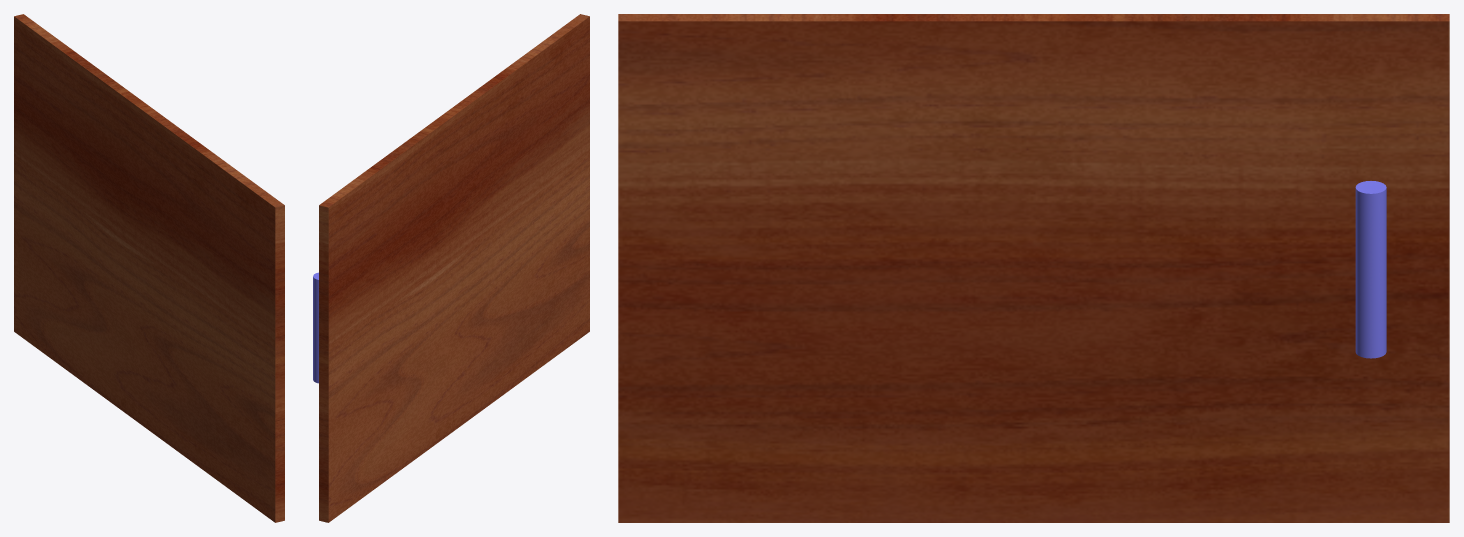
Rendered from Vanity_Door_With_Handle_On_Right.fbx.
The picture shows the model from 3 angles, left to right: view 1: azimuth 30°, elevation 25°; view 2: azimuth 150°, elevation 25°; view 3: azimuth 270°, elevation 25°; orthographic projection. The views are drawn at different scales.
Parts seen in each view (by area): view 1: polySurface286; view 2: polySurface286; view 3: polySurface286.
Part boxes in pixels (x1,y1,x2,y2): polySurface286: (14,14,284,522); polySurface286: (313,14,589,522); polySurface286: (618,14,1449,522).
Size of the model in its own units: 0.0873 by 0.6771 by 1.02.
